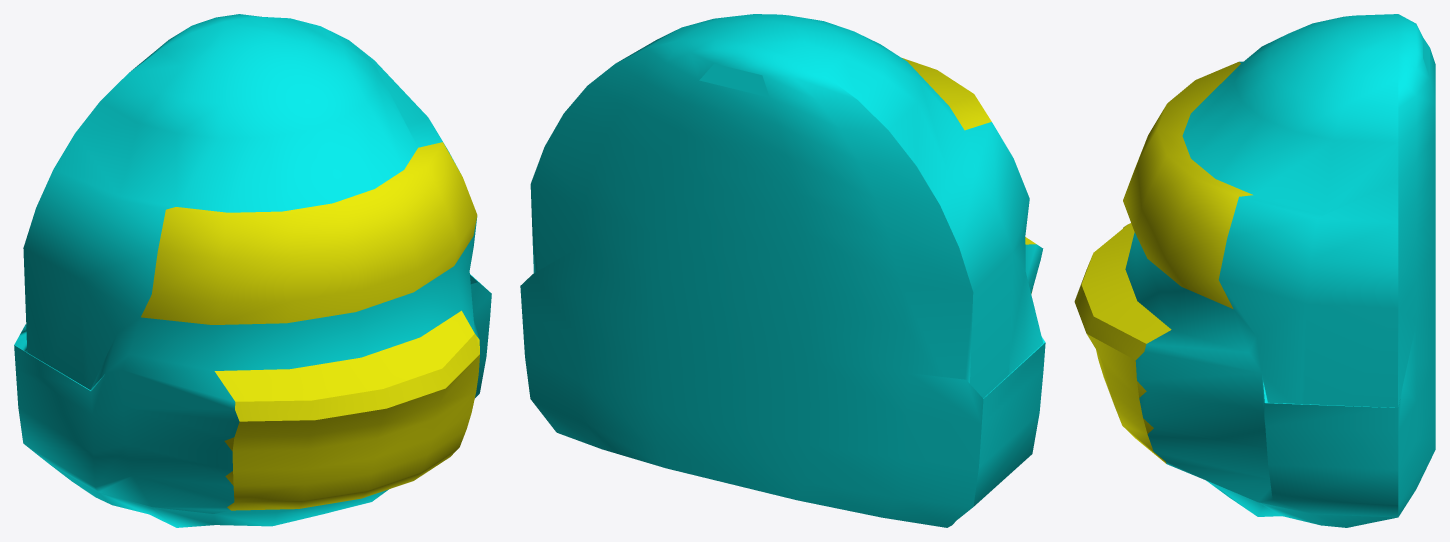
Rendered from Backpack.fbx.
3 views of the same model, side by side, from view 1: azimuth 30°, elevation 25°; view 2: azimuth 150°, elevation 25°; view 3: azimuth 270°, elevation 25° (orthographic). The views are drawn at different scales.
Visible parts, largest first — view 1: pSphere3; view 2: pSphere3; view 3: pSphere3.
Part boxes in pixels (box(x1,y1,x2,y2)): pSphere3: box(14, 14, 491, 527); pSphere3: box(520, 14, 1045, 527); pSphere3: box(1074, 14, 1435, 527).
Size of the model in its own units: 1.99 by 1.92 by 1.48.
